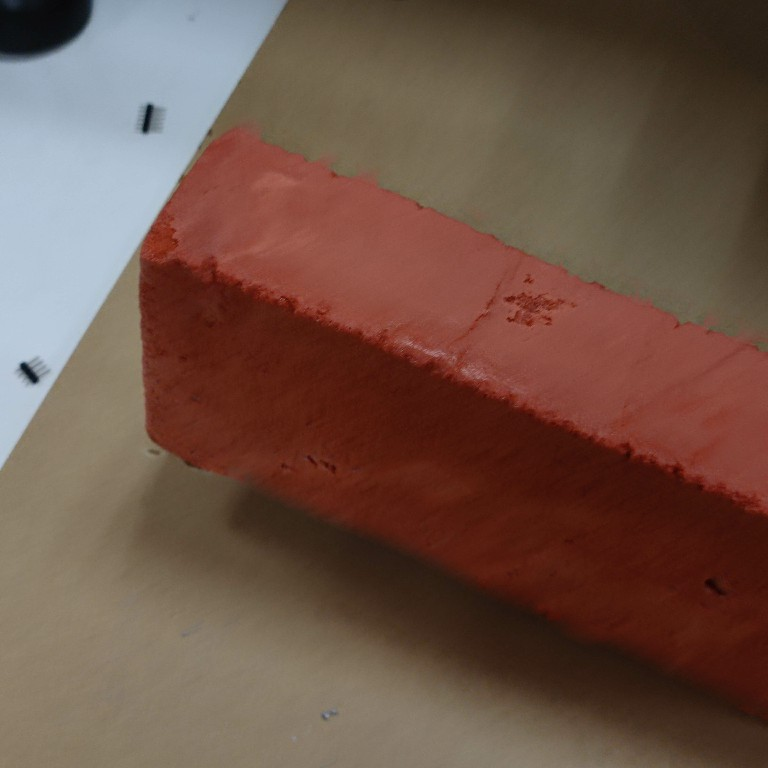brick: (133, 124, 768, 716)
